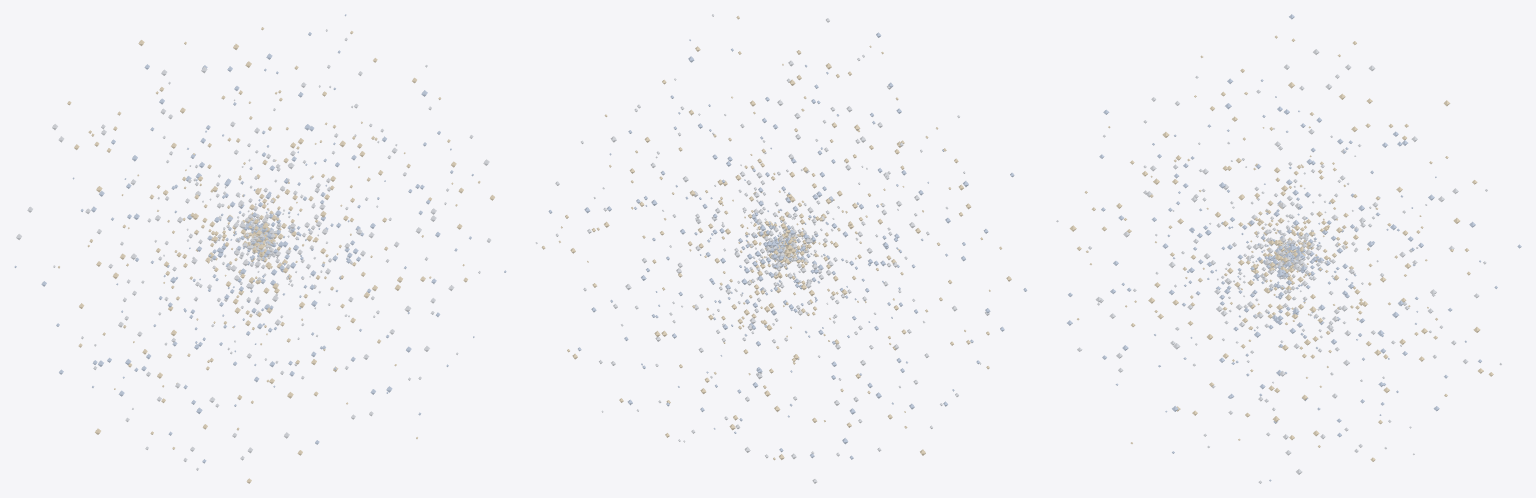
3 renders of one model, left to right at view 1: azimuth 30°, elevation 25°; view 2: azimuth 150°, elevation 25°; view 3: azimuth 270°, elevation 25°, orthographic. The views are drawn at different scales.
Size of the model in its own units: 4.99 by 4.74 by 4.96.
